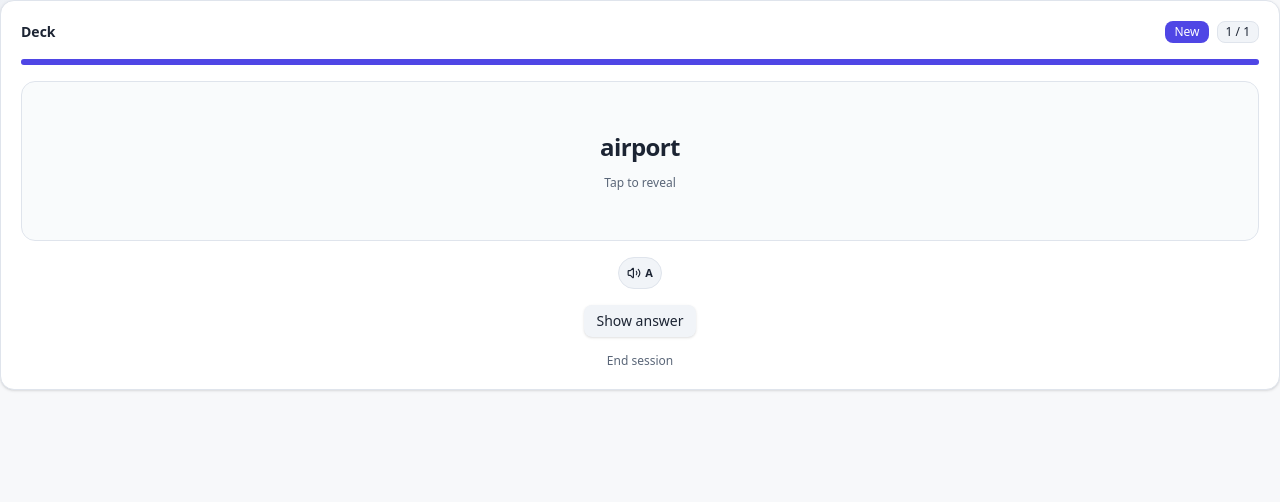
Scenario: StudySession › el lápiz guarda la traducción propia y pasa a mandar en la sesión
The image size is (1280, 502).
Click the button with aria-label "Flip card" at point(640, 161), box left=21, top=81, right=1259, bottom=241
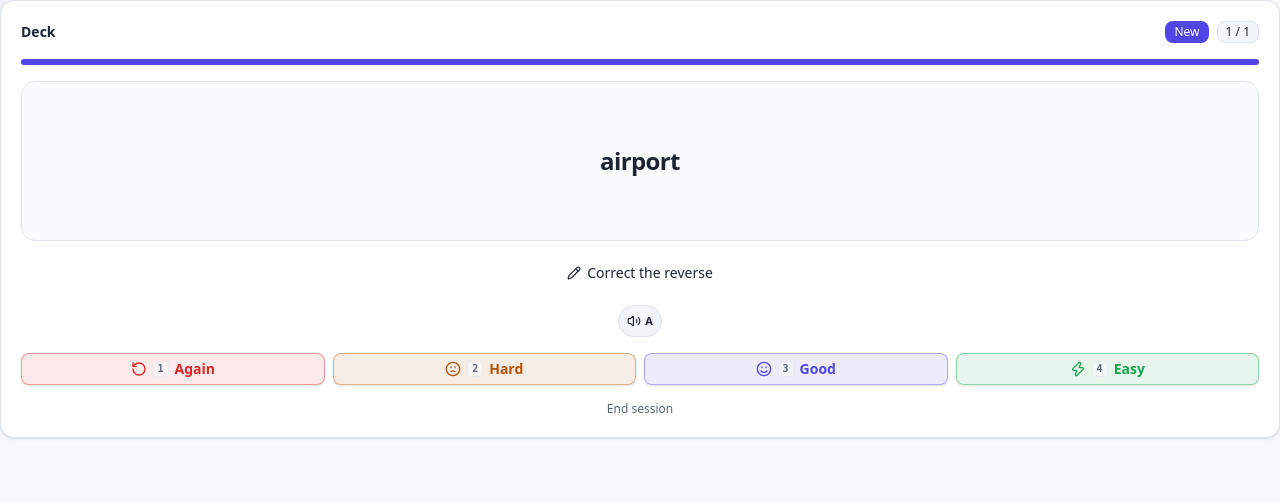
Click the button "Correct the reverse" at point(640, 273), box left=557, top=257, right=723, bottom=289
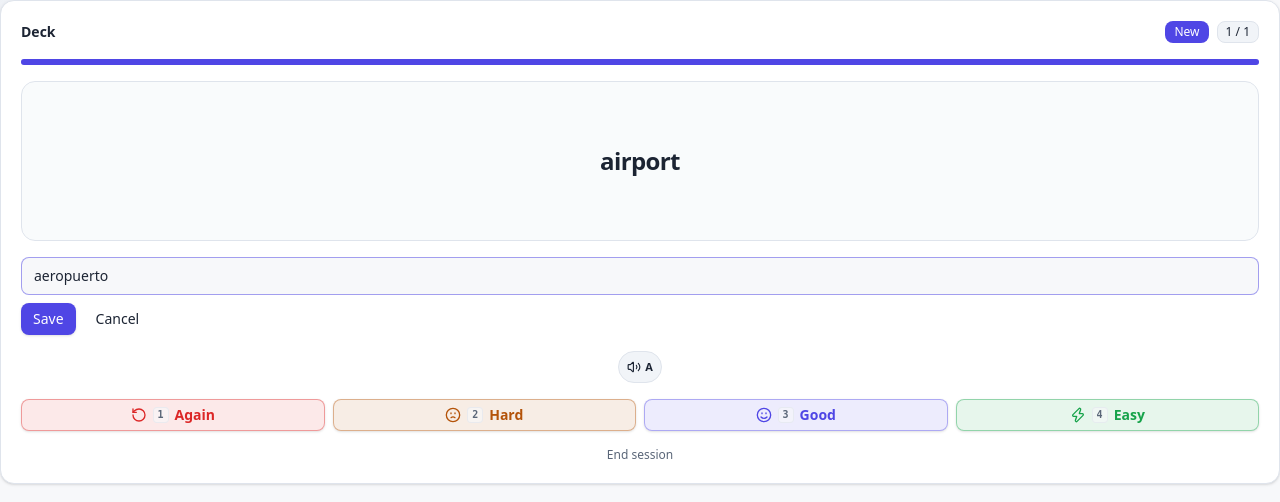
Replace the text in the field named "Reverse side (Spanish)" with "mi aeropuerto" at point(640, 276), box left=21, top=257, right=1259, bottom=295
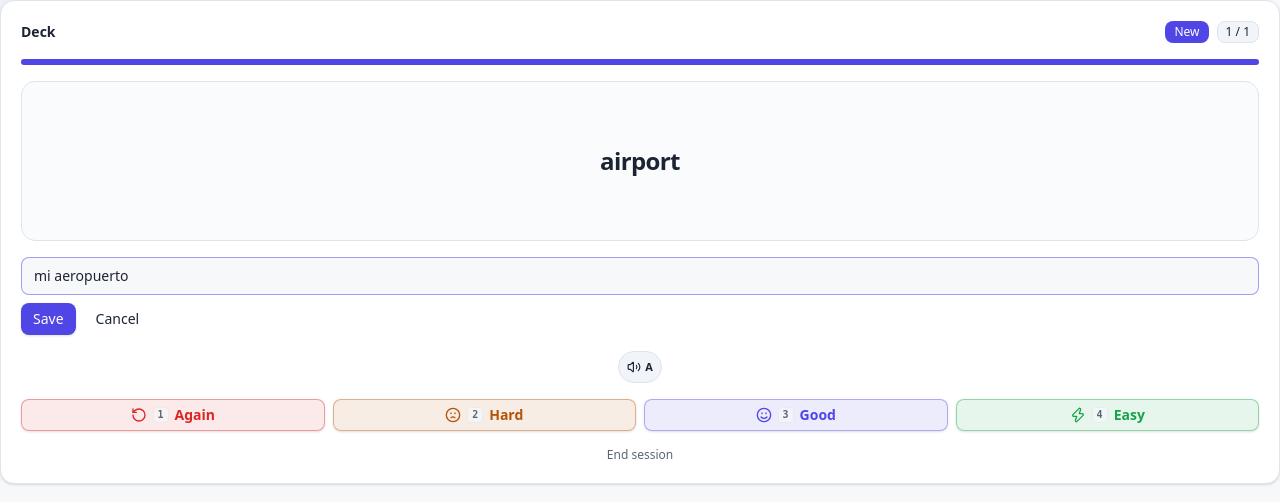
Click the button "Save" at point(48, 319), box left=21, top=303, right=76, bottom=335
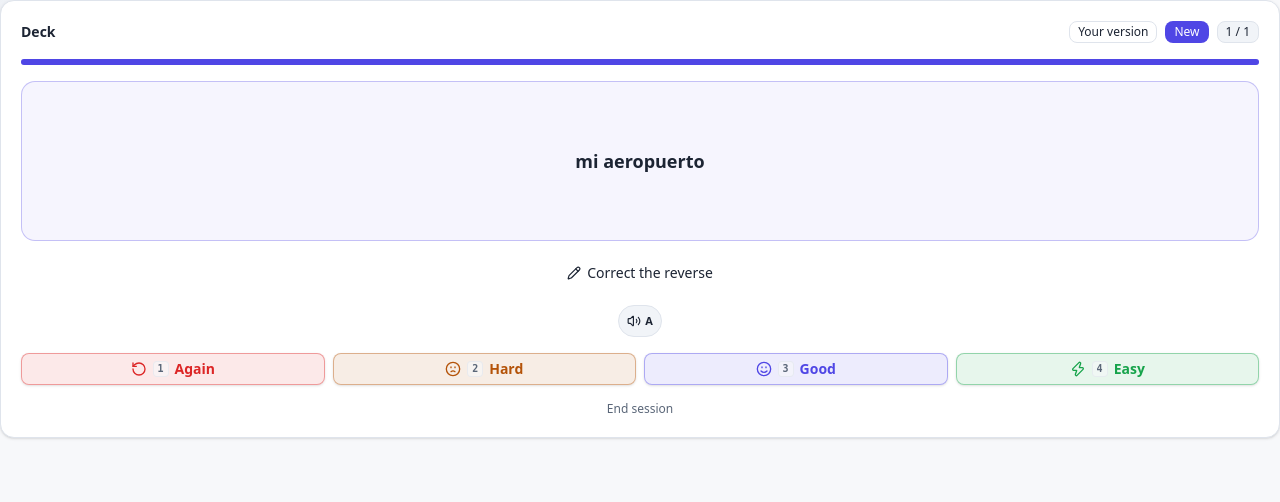
Now the text "mi aeropuerto" is shown, box left=575, top=147, right=705, bottom=175
Now the text "Your version" is shown, box left=1069, top=21, right=1158, bottom=43
